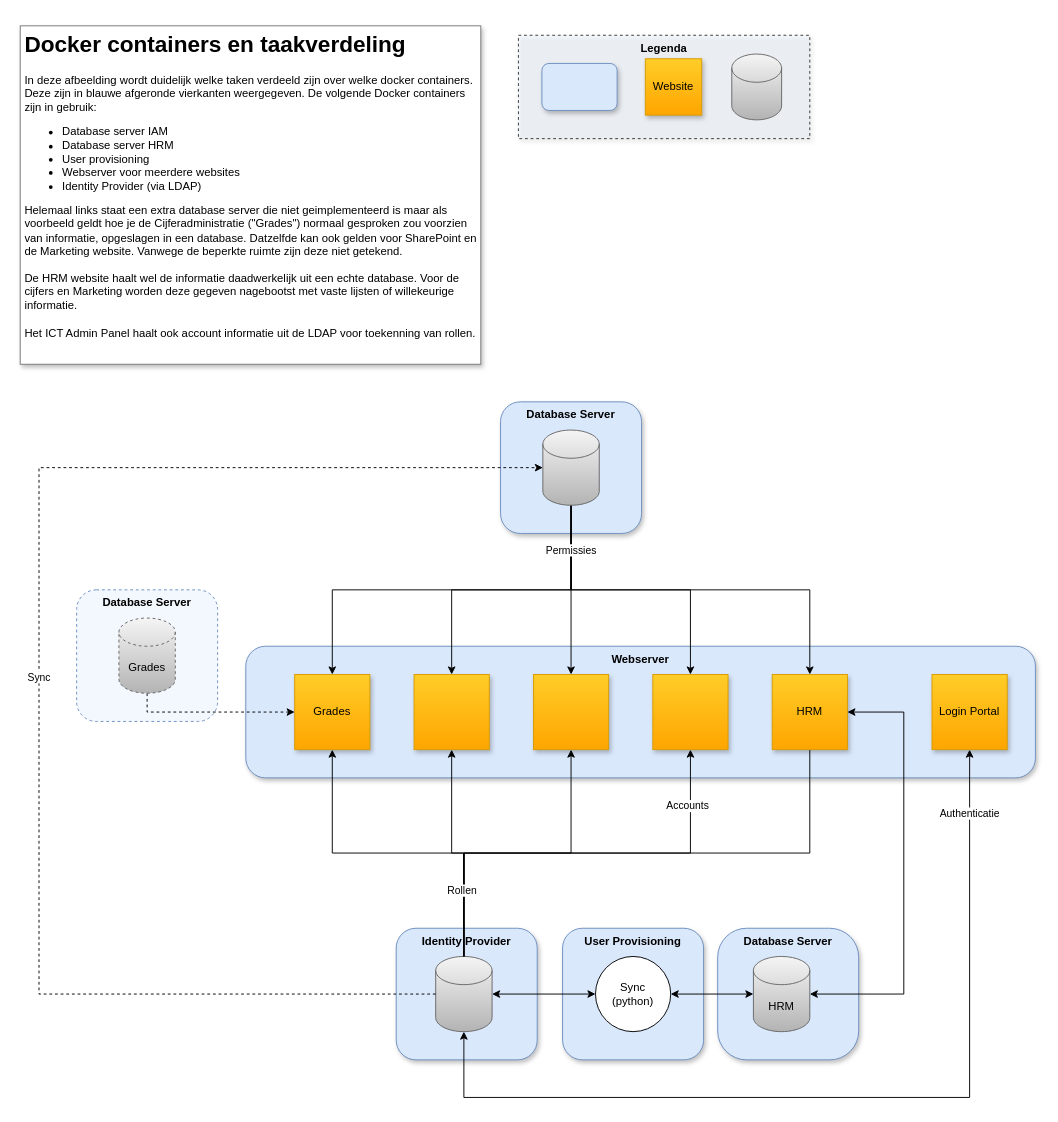
Some shapes in this 1058 by 1122 pixel diagram are drawn without their labels. The shapes that lost their labels are listed below. From the top down, each one's centre as x and y in pixels, then its label:
point 580,88: Docker container
point 756,86: Database
point 570,467: IAM
point 452,713: Marketing
point 571,713: SharePoint
point 691,713: Admin
point 463,994: LDAP
